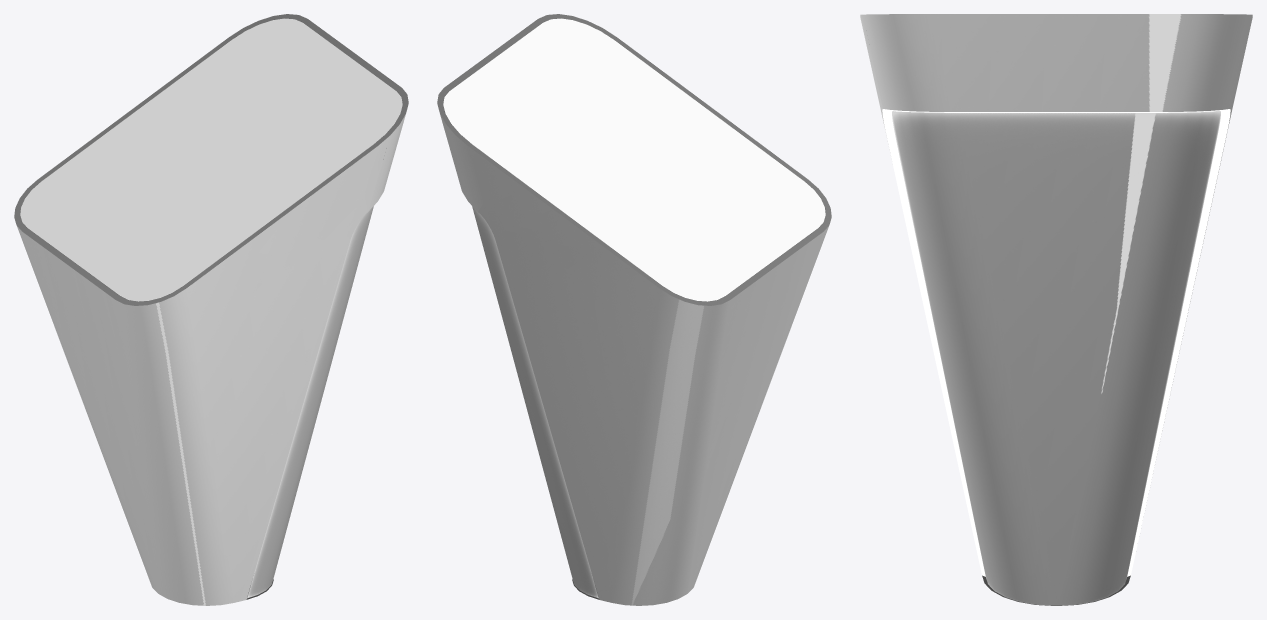
3 views of the same model, side by side, from view 1: azimuth 30°, elevation 25°; view 2: azimuth 150°, elevation 25°; view 3: azimuth 270°, elevation 25° (orthographic). The views are drawn at different scales.
Visible parts, largest first — view 1: Cube.001, Flat_0801_1723, Cube; view 2: Cube.001, Flat_0801_1723, Cube; view 3: Cube, Cube.001, Cube.002.
Part boxes in pixels (x1,y1,x2,y2): Cube.001: (14, 14, 408, 605); Flat_0801_1723: (20, 18, 402, 301); Cube: (247, 206, 373, 597); Cube.001: (437, 14, 831, 605); Flat_0801_1723: (443, 18, 825, 301); Cube: (472, 206, 598, 597); Cube: (892, 111, 1220, 605); Cube.001: (860, 14, 1252, 605); Cube.002: (882, 109, 1230, 576).
Size of the model in its own units: 0.544 by 0.8966 by 0.4904.
Materials: 4 (2 with a texture image).
